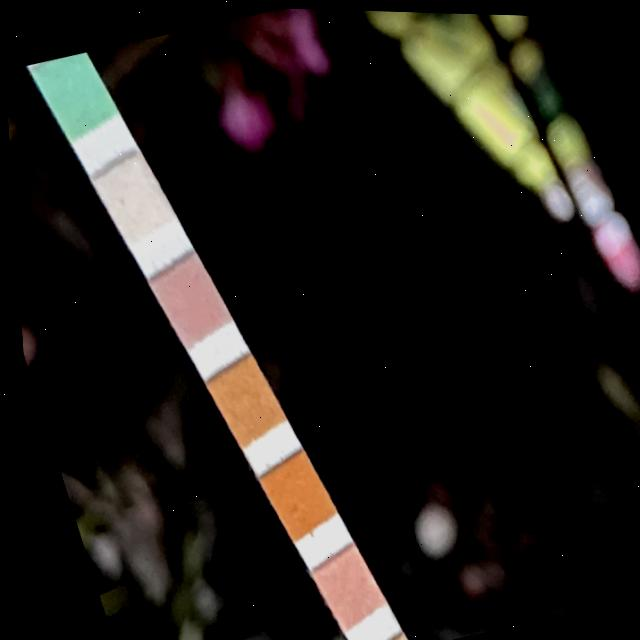Bilirubin: (101, 168, 164, 236)
Blood: (260, 462, 320, 528)
Glucose: (39, 56, 103, 129)
Ketone: (153, 266, 215, 335)
SpGravity: (210, 372, 271, 430)
pH: (309, 560, 368, 615)
